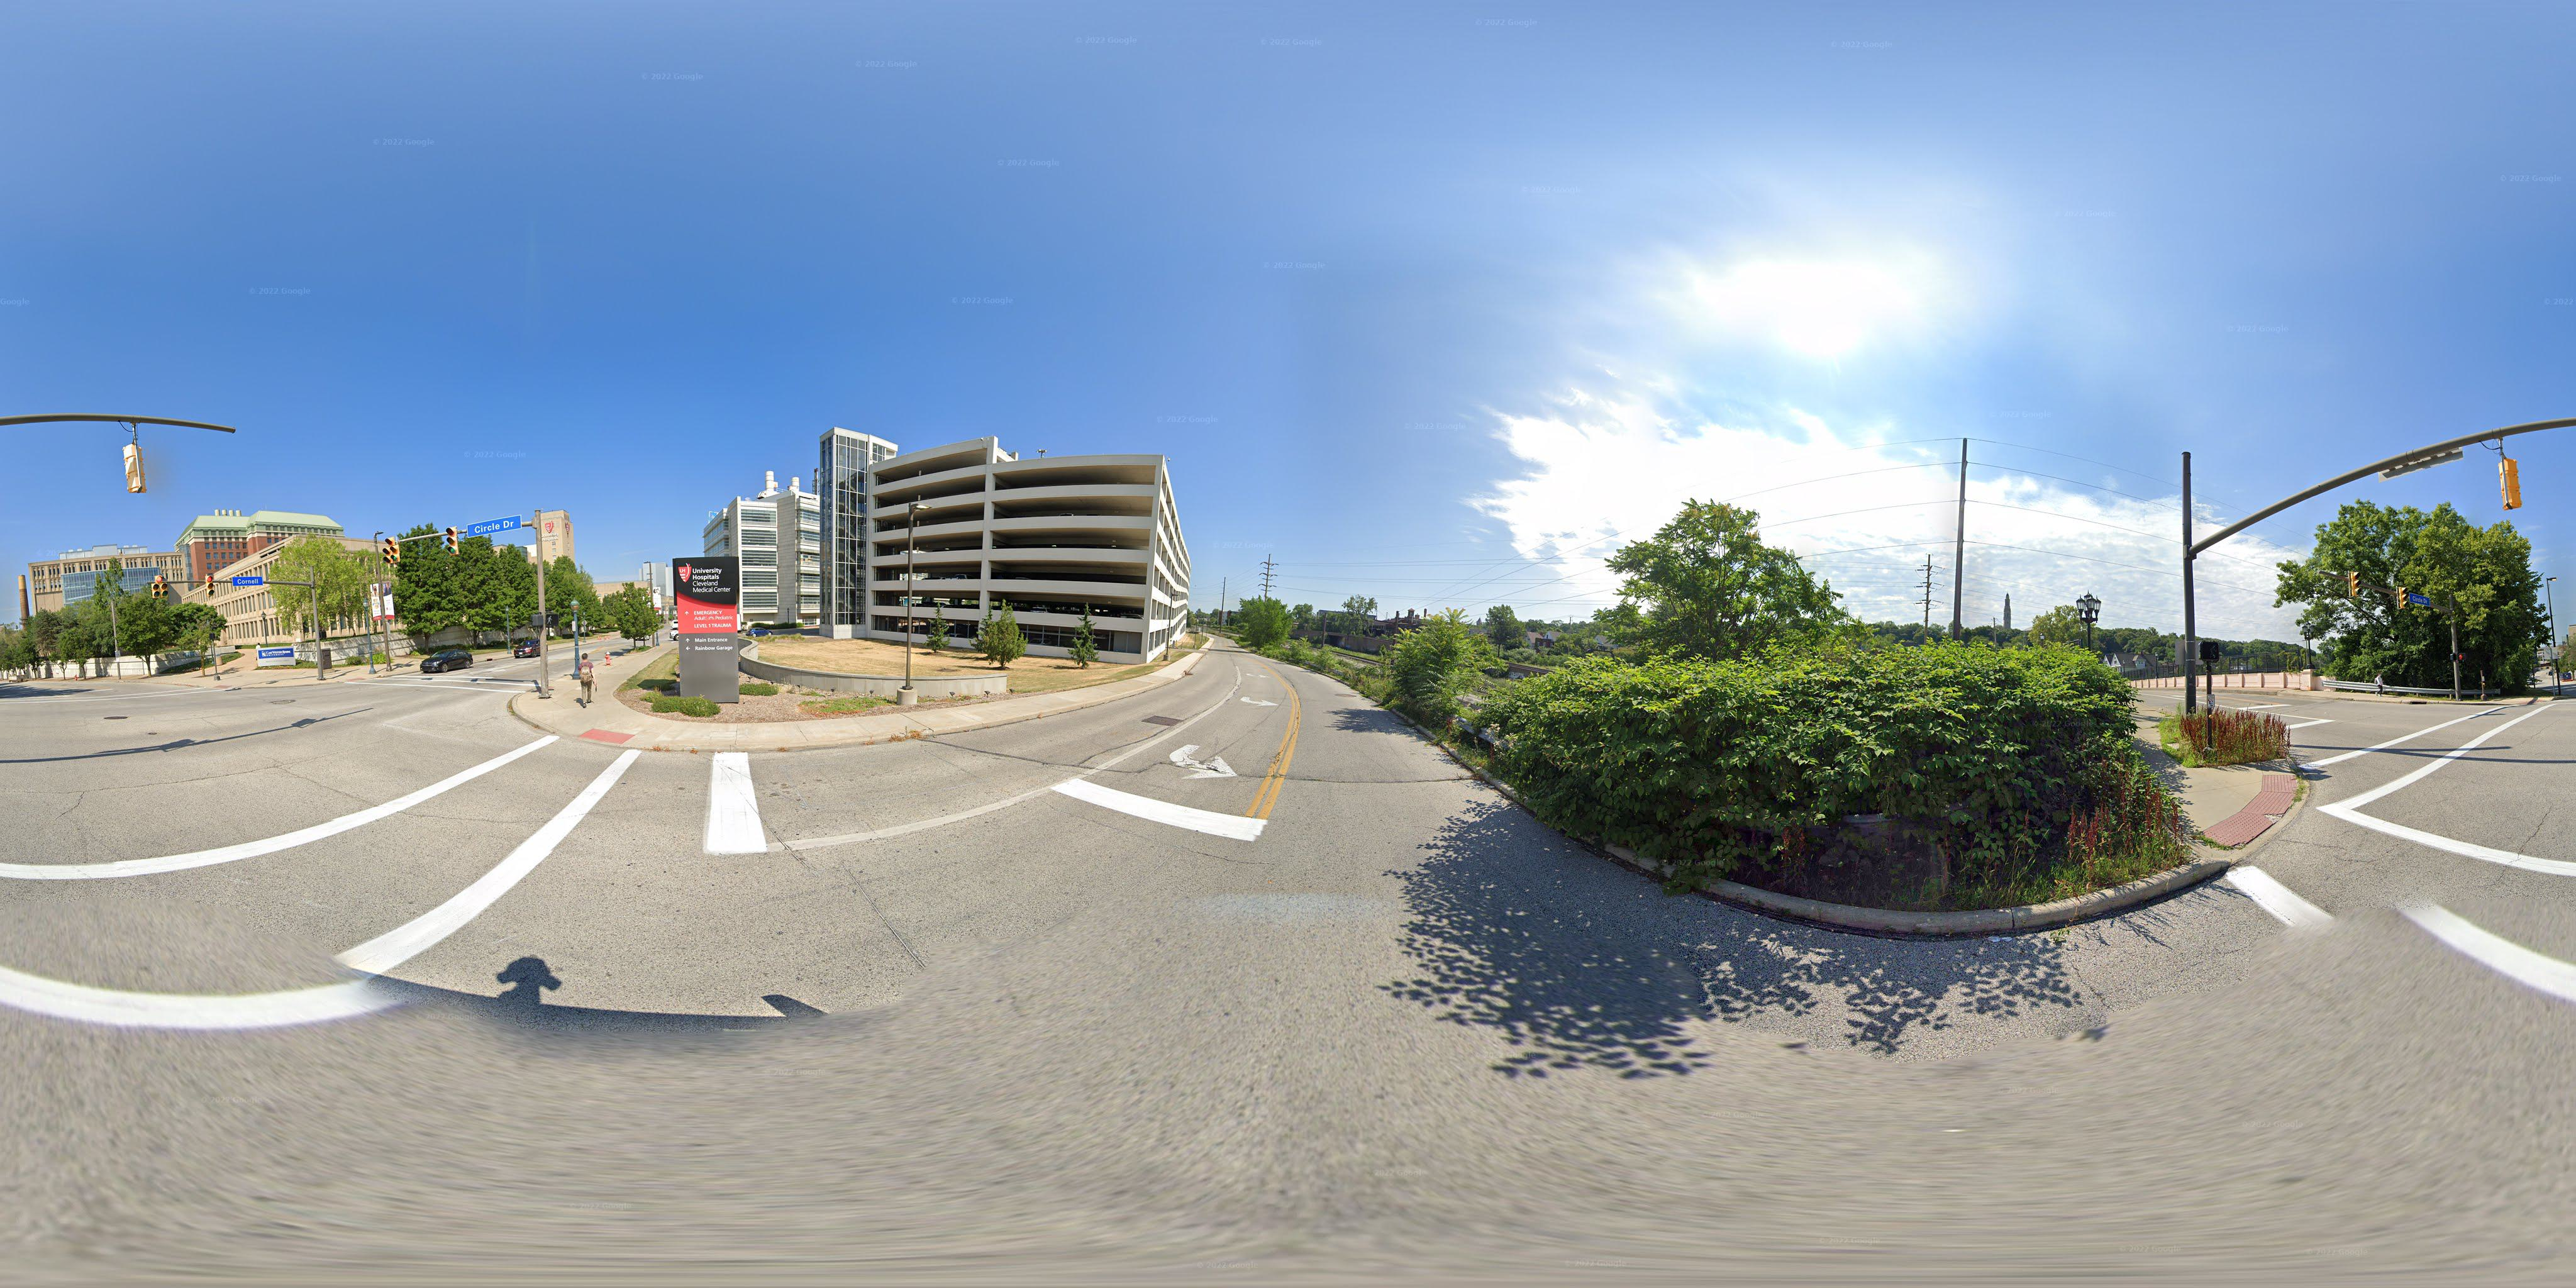Curb Ramp: (2190, 759, 2326, 872)
